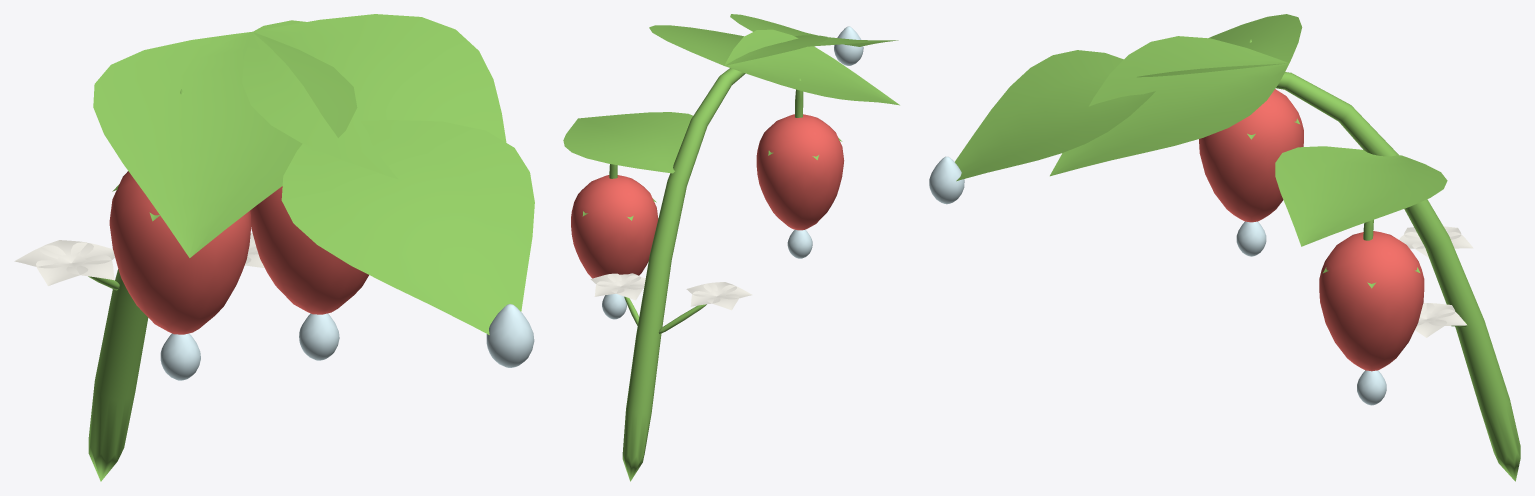
File: SM_Forest_StrawberryPlant.fbx
3 views of the same model, side by side, from view 1: azimuth 30°, elevation 25°; view 2: azimuth 150°, elevation 25°; view 3: azimuth 270°, elevation 25° (orthographic). The views are drawn at different scales.
Visible parts, largest first — view 1: SM_Forest_StrawberryPlant; view 2: SM_Forest_StrawberryPlant; view 3: SM_Forest_StrawberryPlant.
Boxes of the visible parts, x1,y1,x2,y2 form: SM_Forest_StrawberryPlant: [14, 14, 534, 481]; SM_Forest_StrawberryPlant: [563, 14, 899, 481]; SM_Forest_StrawberryPlant: [929, 14, 1520, 481].
Size of the model in its own units: 231 by 305 by 388.
